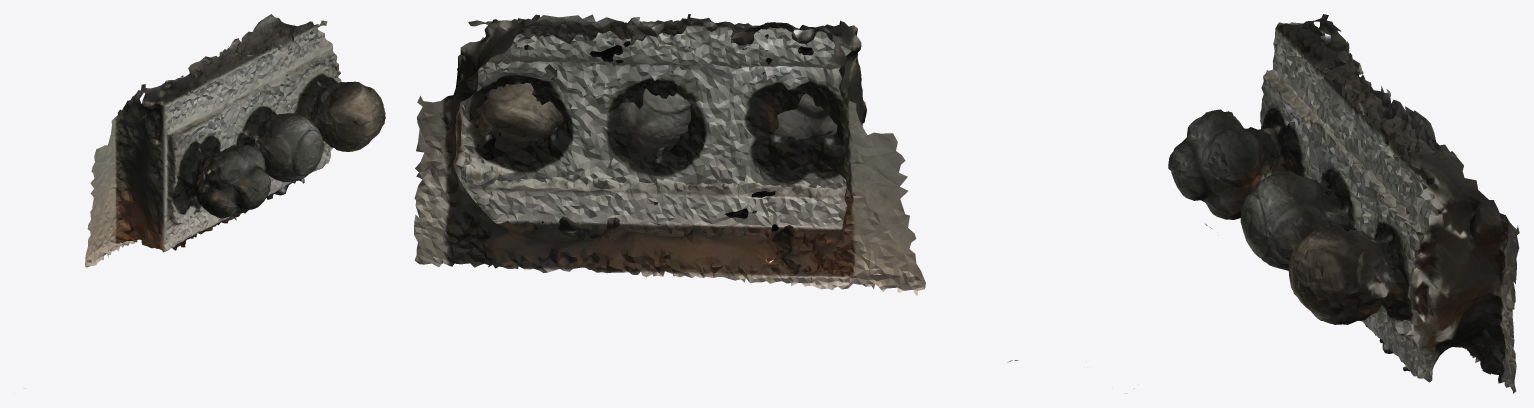
File: stone-balls.obj
The picture shows the model from 3 angles, left to right: view 1: azimuth 30°, elevation 25°; view 2: azimuth 150°, elevation 25°; view 3: azimuth 270°, elevation 25°; orthographic projection. The views are drawn at different scales.
Bounding box in the file's own units: 4.74 × 2.65 × 2.52.
Materials: 1 (1 with a texture image).
